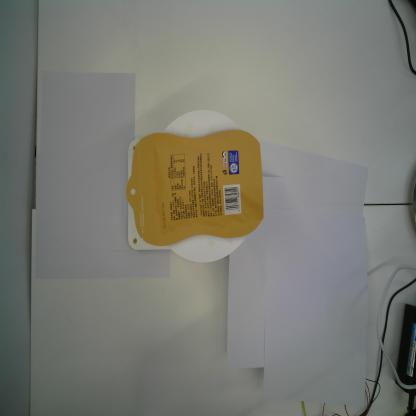Dried Fruit: (126, 128, 264, 247)
